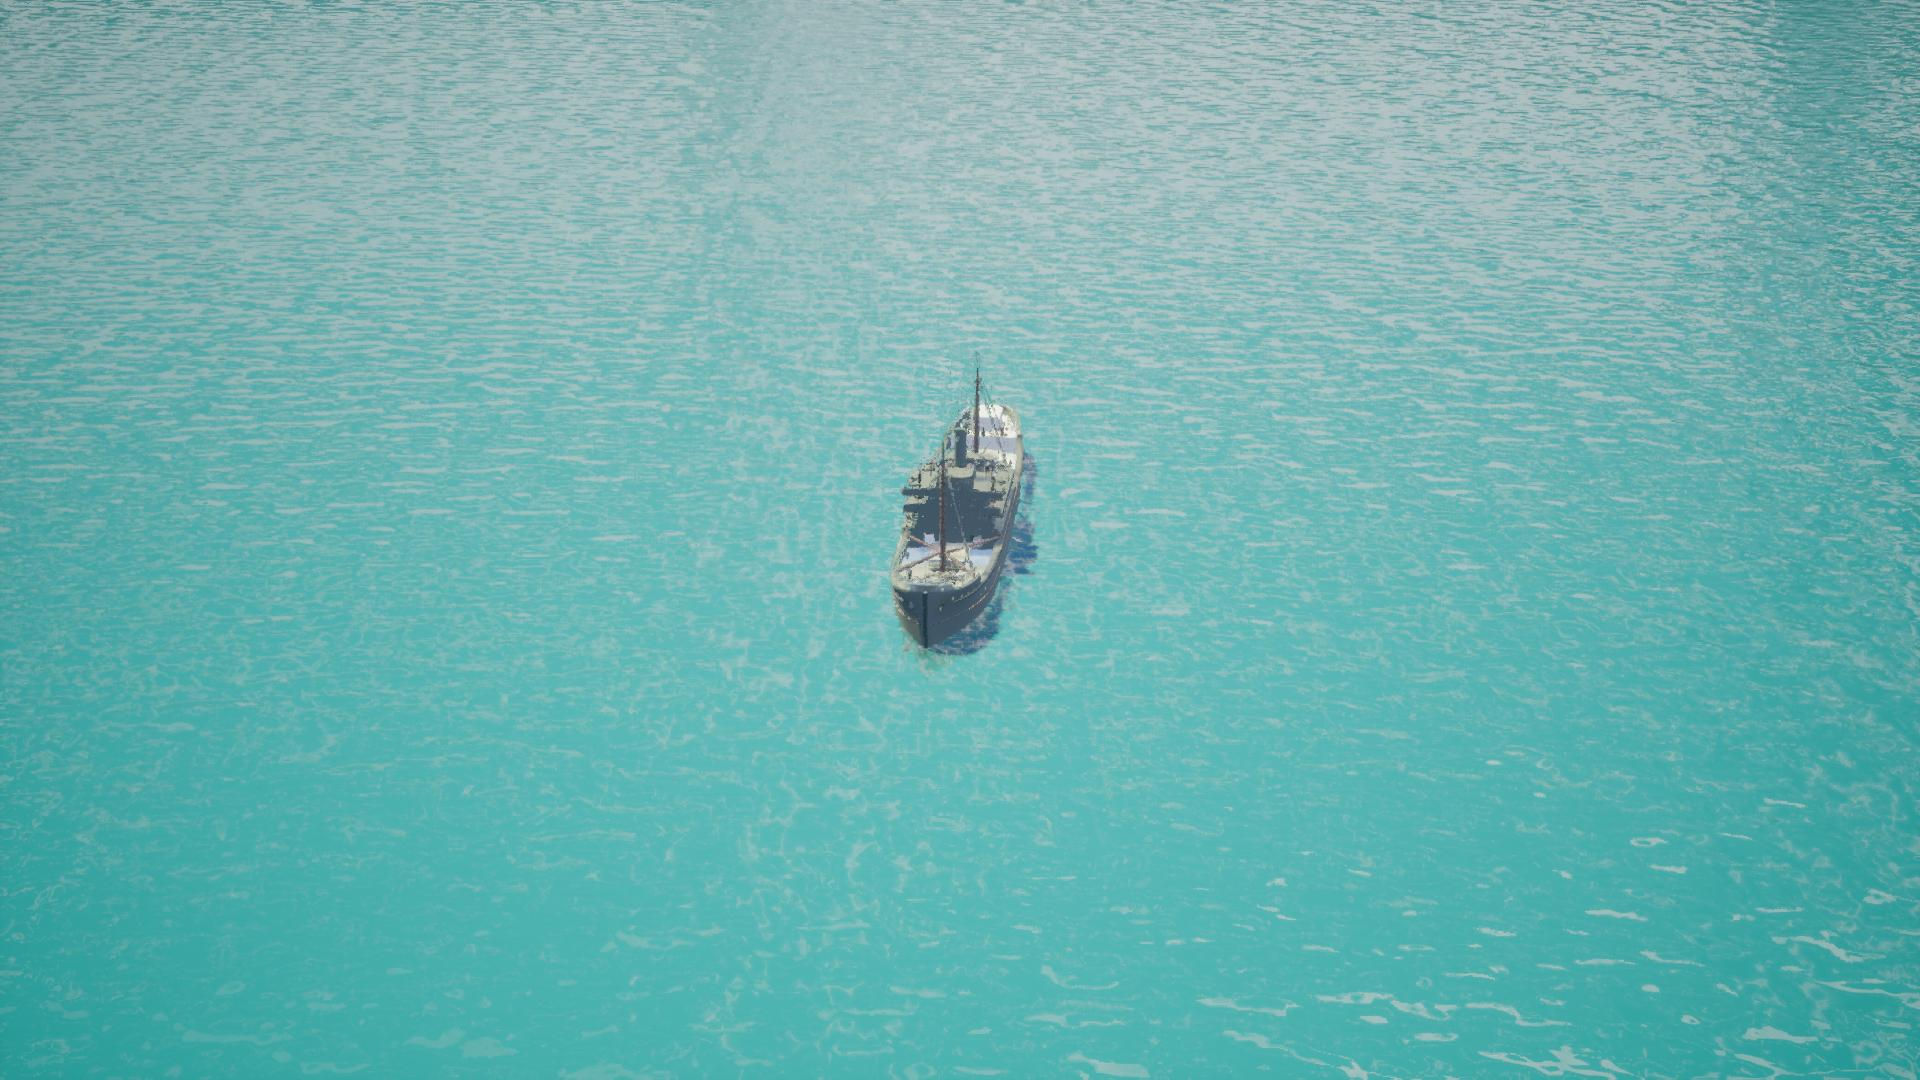Fishing Boat: (885, 372, 1033, 657)
